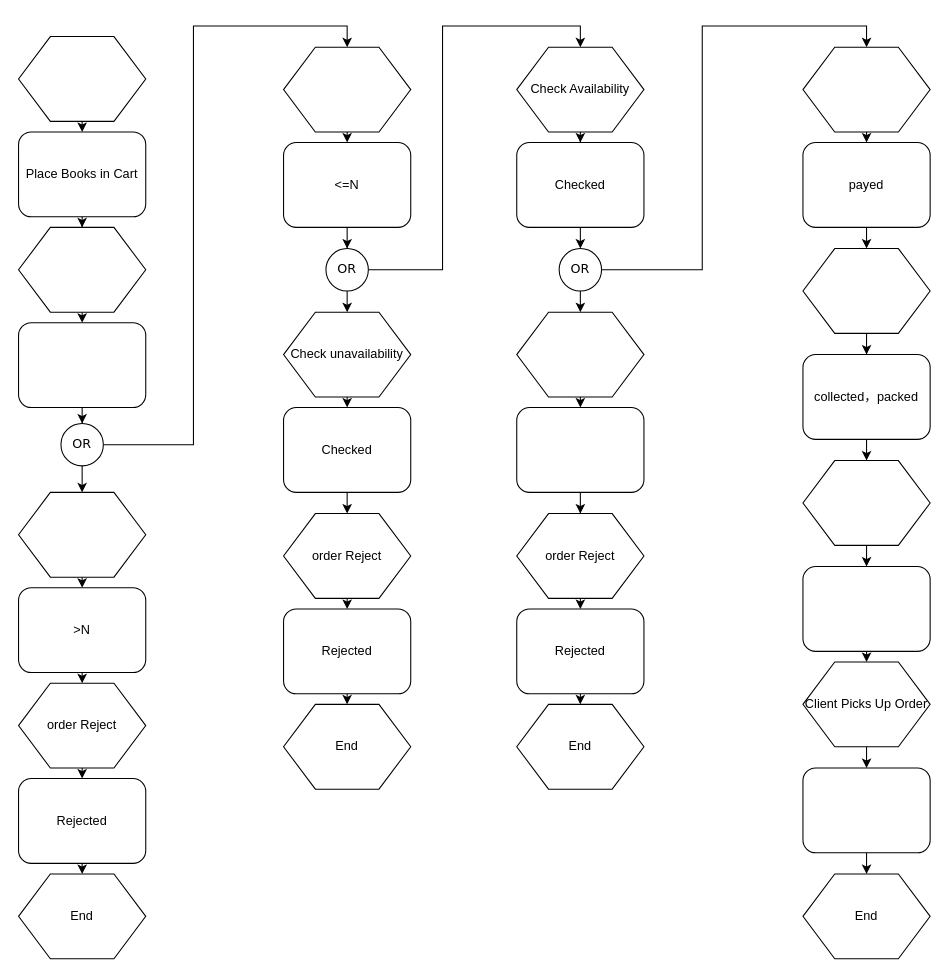
The diagram is 949 pixels wide and 977 high, and some of its shapes have lost their labels. The centre of each missing label's shape, as x and y in pixels:
"Browse Catalog" goes at point (81, 78).
"Collect Books Pack Order" goes at point (866, 290).
"Deliver to Center" goes at point (866, 502).
"delivered" goes at point (866, 608).
"order intime" goes at point (346, 89).
"order overtime" goes at point (81, 534).
"Pay" goes at point (866, 89).
"picked" goes at point (866, 810).
"Register Order" goes at point (81, 269).
"Registered" goes at point (81, 365).
"Unpay" goes at point (580, 354).
"Unpayed" goes at point (580, 449).
